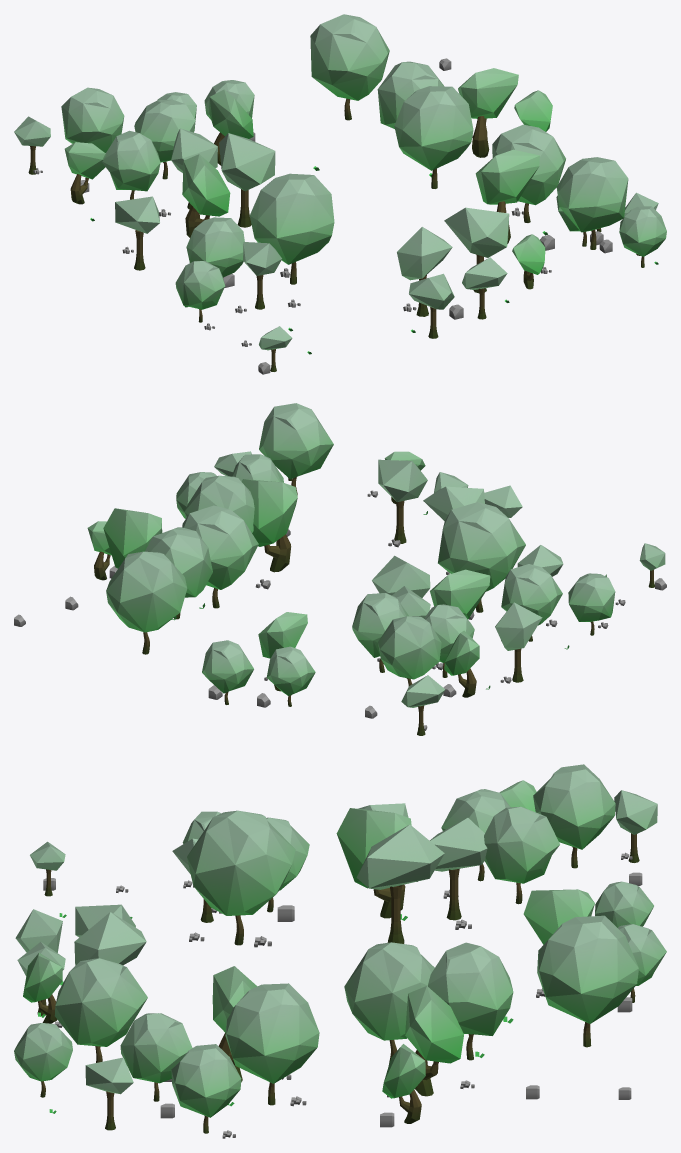
Rendered from foretPretePourAnim.fbx.
3 views of the same model, one above another, from view 1: azimuth 30°, elevation 25°; view 2: azimuth 150°, elevation 25°; view 3: azimuth 270°, elevation 25° (orthographic). The views are drawn at different scales.
Parts seen in each view (by area): view 1: décor; view 2: décor; view 3: décor.
Part boxes in pixels (bbox=[...]): décor: bbox=[14, 14, 666, 374]; décor: bbox=[14, 403, 666, 735]; décor: bbox=[14, 764, 666, 1138].
Size of the model in its own units: 10554 by 2848 by 10784.
